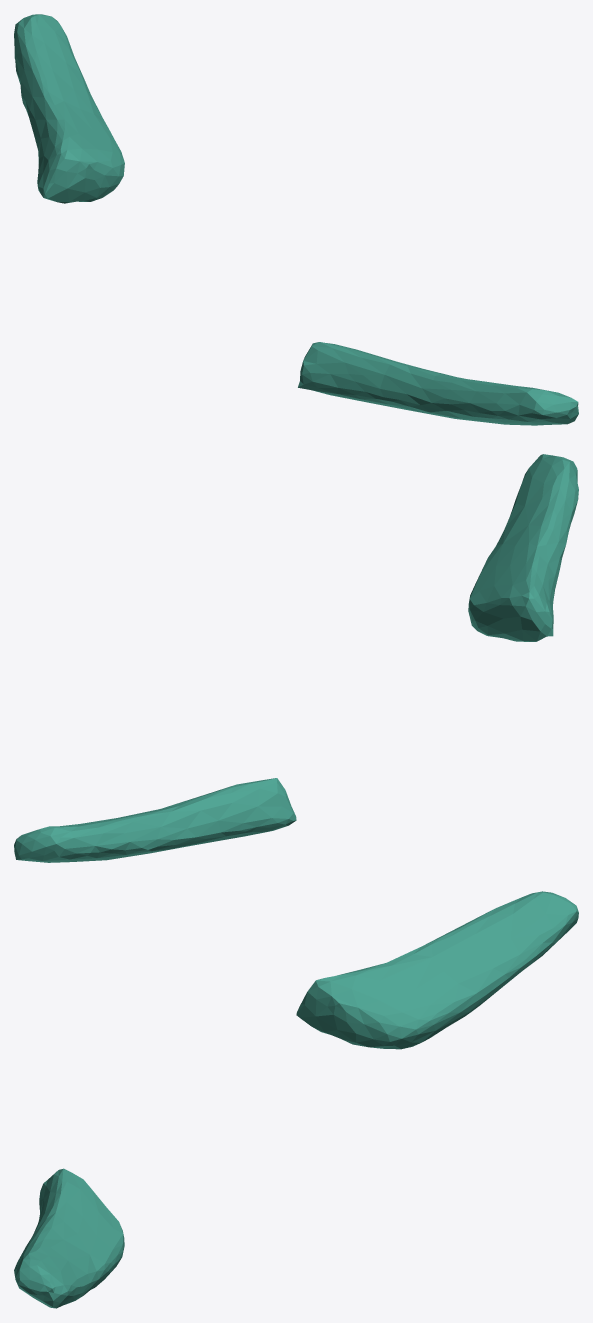
3 views of the same model, one above another, from view 1: azimuth 30°, elevation 25°; view 2: azimuth 150°, elevation 25°; view 3: azimuth 330°, elevation 25° (orthographic).
Visible parts, largest first — view 1: 9.obj; view 2: 9.obj; view 3: 9.obj.
Part boxes in pixels (x1,y1,x2,y2): 9.obj: (14,14,578,425); 9.obj: (14,454,578,862); 9.obj: (14,891,578,1308).
Bounding box in the file's own units: 779 × 429 × 4780.
